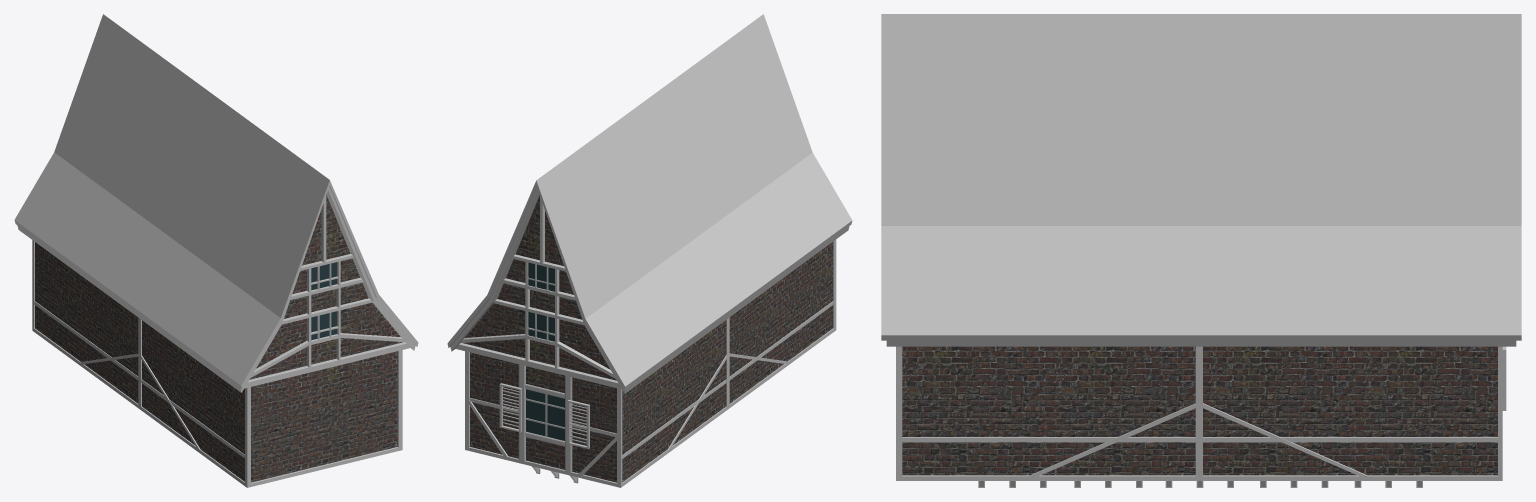
File: Houses3-top1.fbx
The picture shows the model from 3 angles, left to right: view 1: azimuth 30°, elevation 25°; view 2: azimuth 150°, elevation 25°; view 3: azimuth 270°, elevation 25°; orthographic projection. The views are drawn at different scales.
Visible parts, largest first — view 1: HOuse3Top; view 2: HOuse3Top; view 3: HOuse3Top.
Part boxes in pixels (left/top/right/bottom): HOuse3Top: left=14, top=14, right=418, bottom=487; HOuse3Top: left=447, top=14, right=852, bottom=487; HOuse3Top: left=881, top=14, right=1521, bottom=487.
Size of the model in its own units: 599 by 1007 by 1328.
